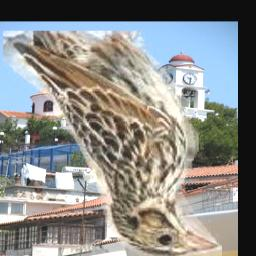Sparrow: (2, 32, 221, 256)
